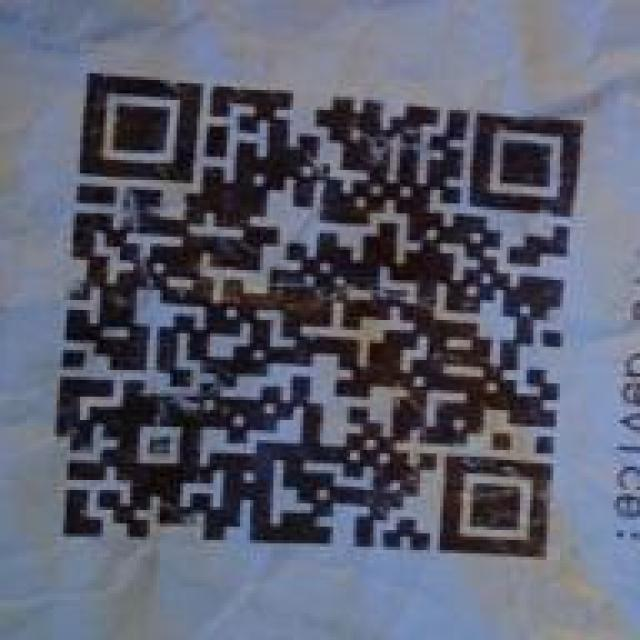QR_CODE: (51, 60, 596, 587)
